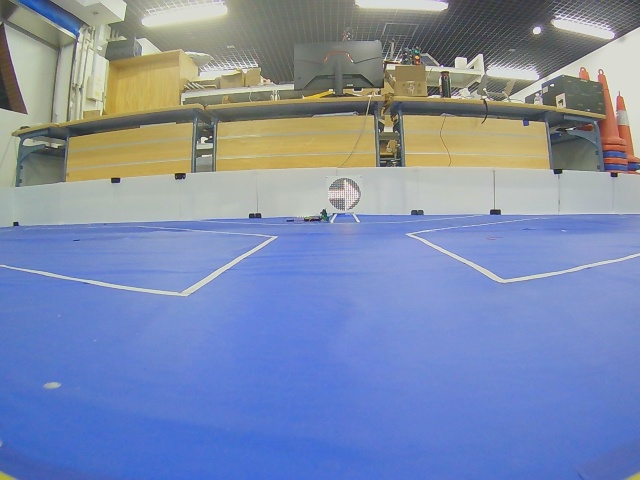right_yellow: (328, 178, 361, 211)
